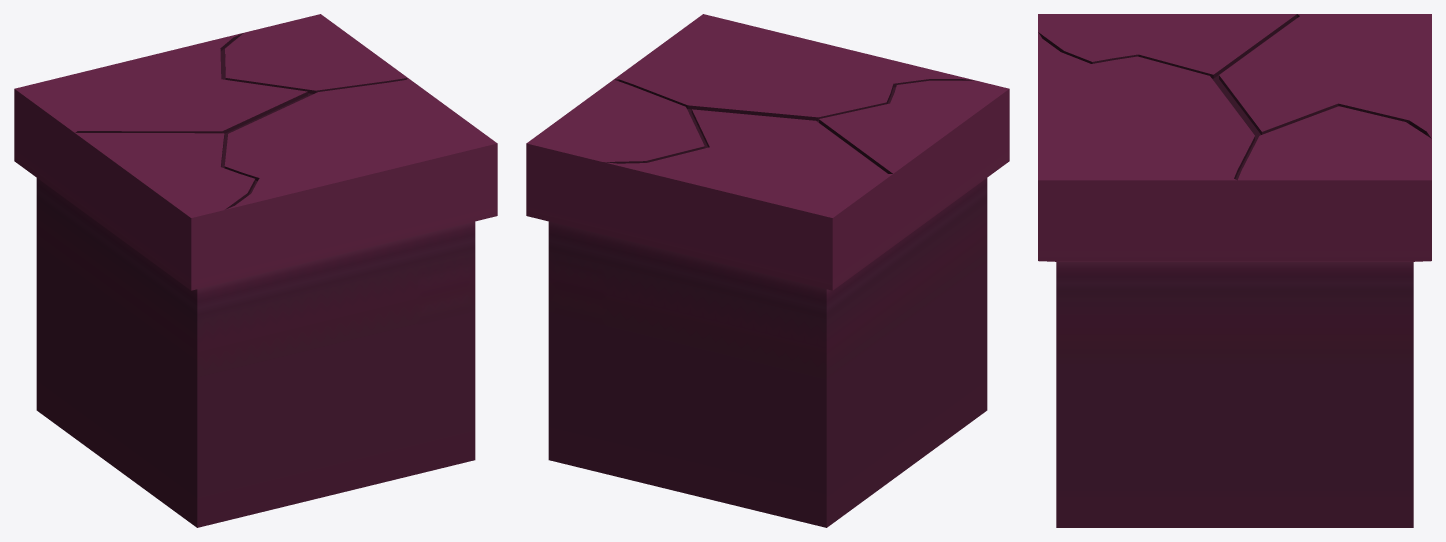
File: SoloTermploQuebradoVC.glb
3 views of the same model, side by side, from view 1: azimuth 30°, elevation 25°; view 2: azimuth 150°, elevation 25°; view 3: azimuth 270°, elevation 25° (orthographic). The views are drawn at different scales.
Visible parts, largest first — view 1: SoloTermploQuebradoVC; view 2: SoloTermploQuebradoVC; view 3: SoloTermploQuebradoVC.
Part boxes in pixels (left/top/right/bottom): SoloTermploQuebradoVC: left=14, top=14, right=497, bottom=527; SoloTermploQuebradoVC: left=526, top=14, right=1009, bottom=527; SoloTermploQuebradoVC: left=1038, top=14, right=1431, bottom=527.
Bounding box in the file's own units: 2 × 1.99 × 2.
Materials: 1 (1 with a texture image).
